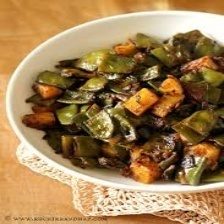sabzi: (22, 29, 224, 186)
